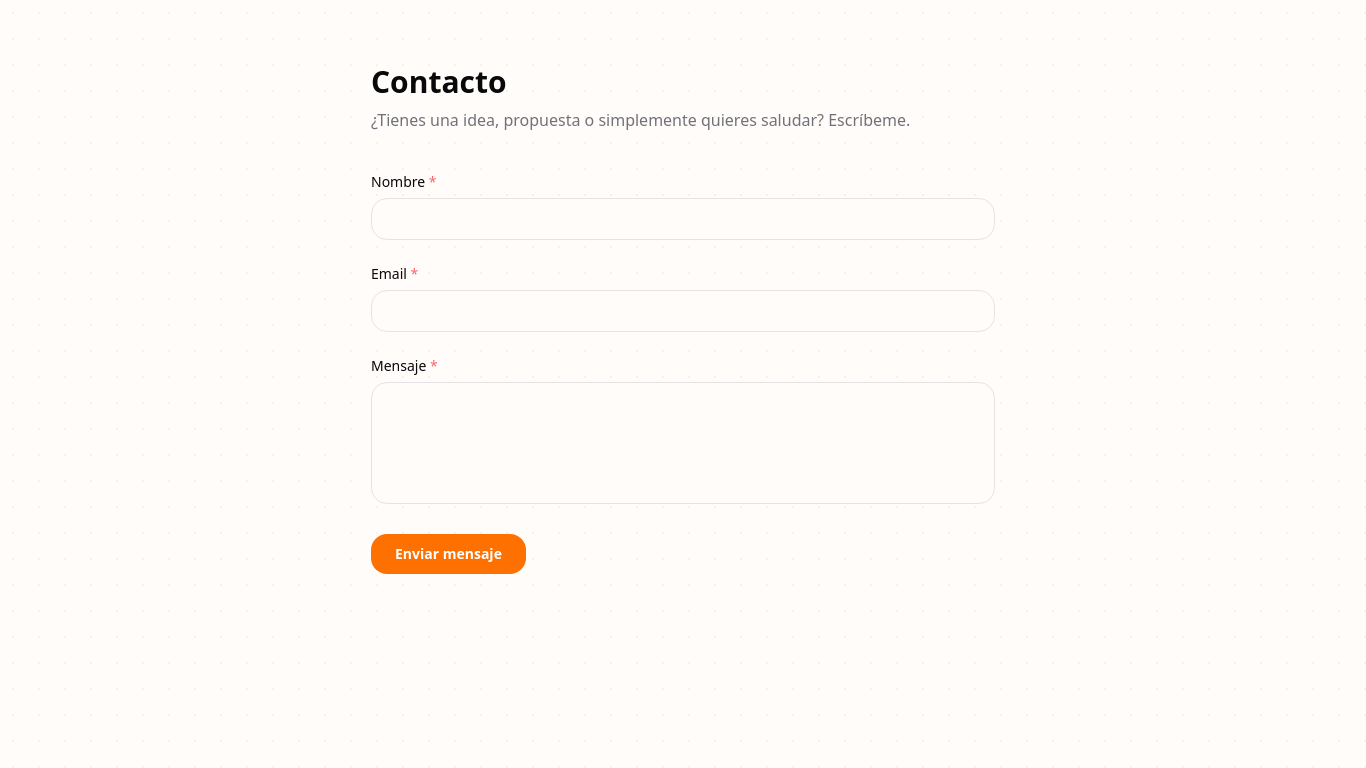
it: Contact › shows success state after valid submission
Type "Ana García" into the field labelled "Nombre *" at (683, 219), box [371,198,995,240]
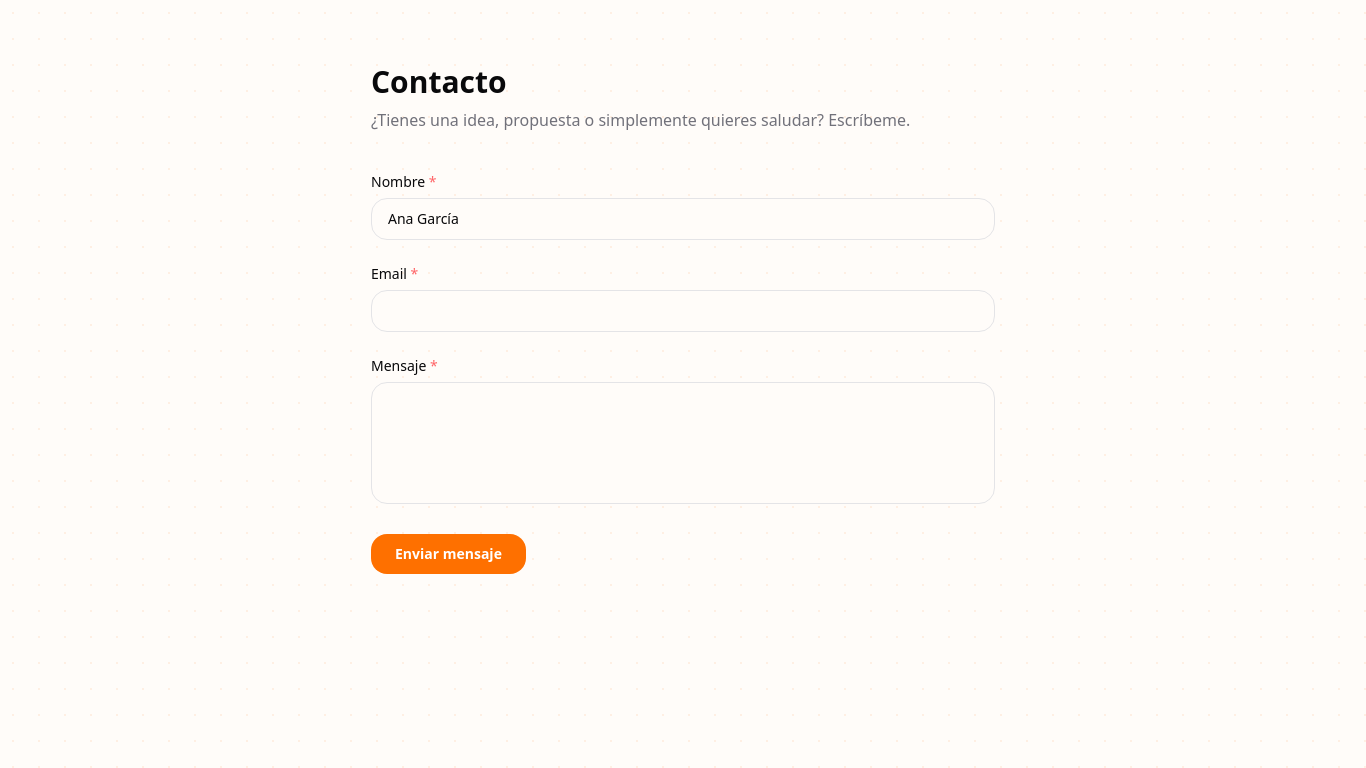
Type "ana@example.com" into the field labelled "Email *" at (683, 311), box [371,290,995,332]
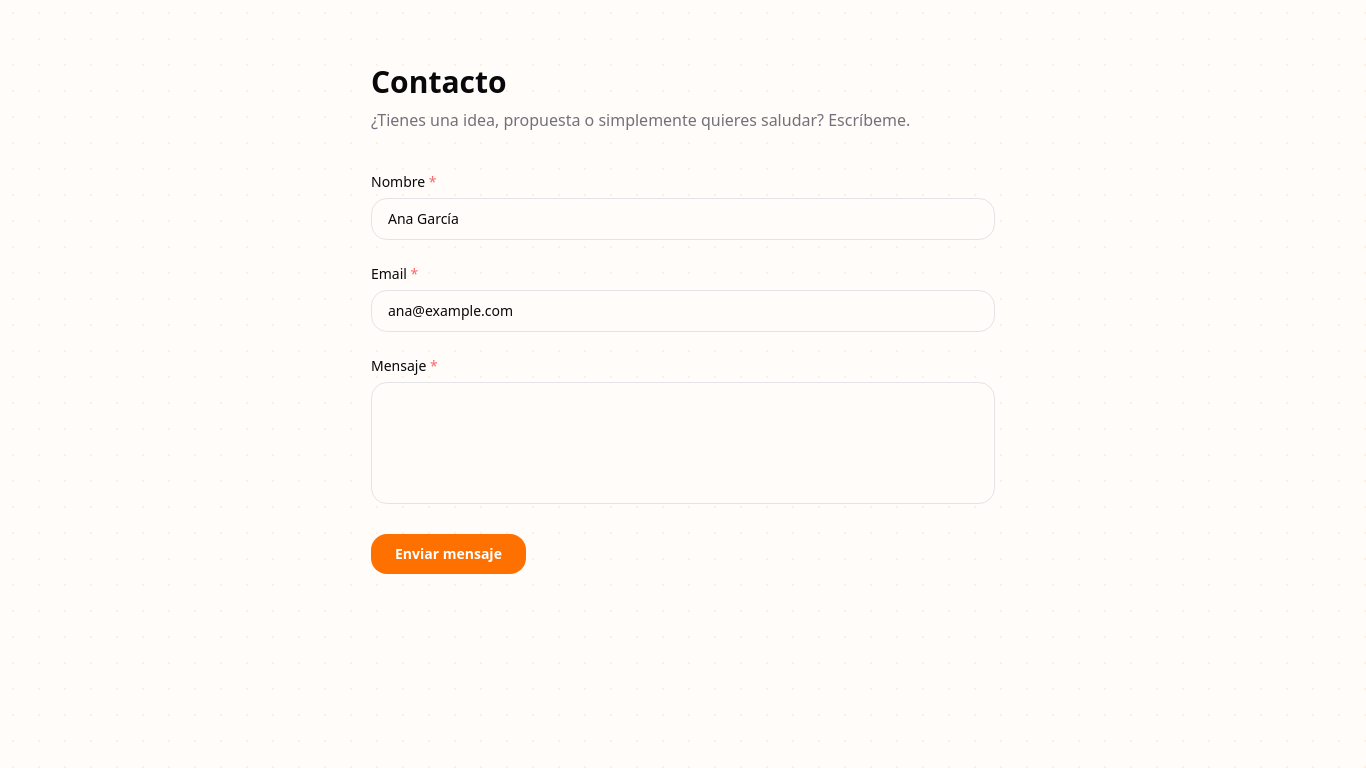
Type "Hola, me gustaría hablar contigo sobre un proyecto." into the text box labelled "Mensaje *" at (683, 443), box [371,382,995,504]
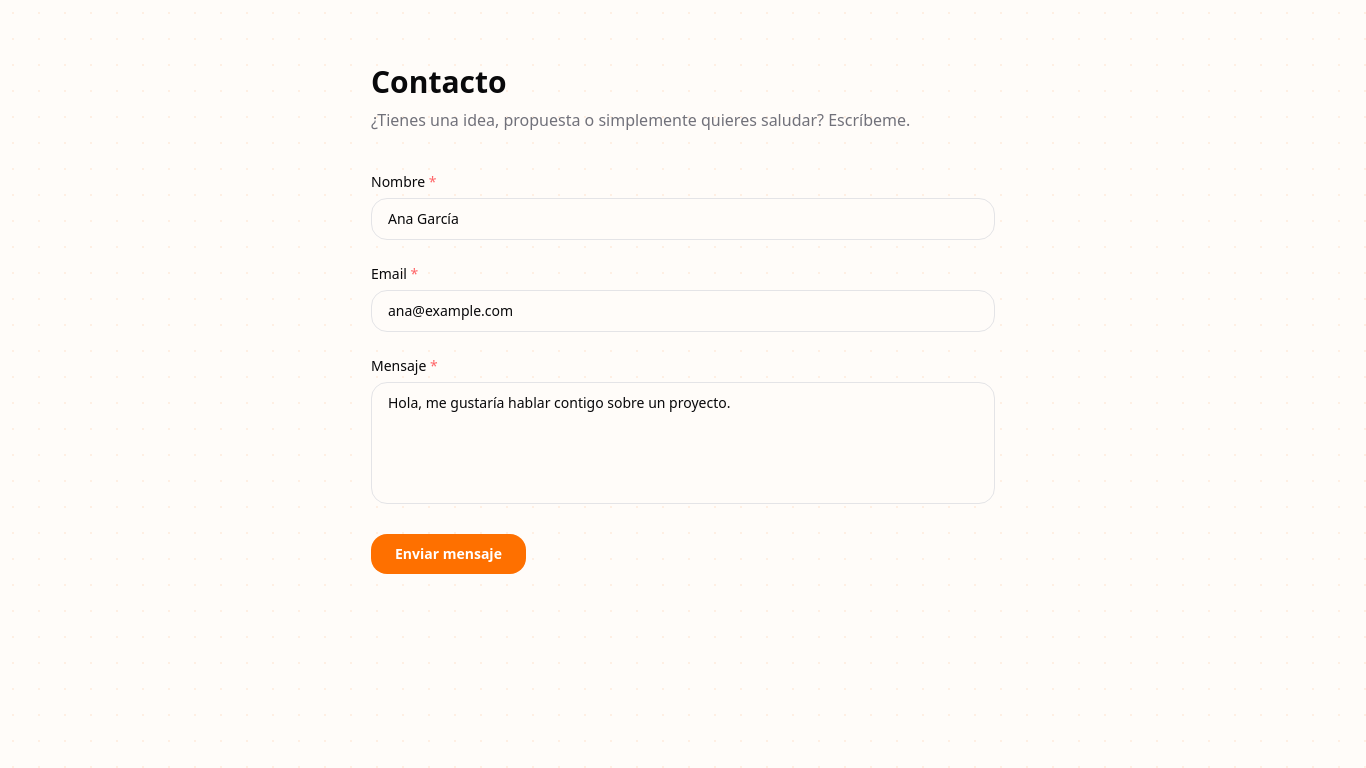
Click the button "Enviar mensaje" at (448, 554), box [371,534,526,574]
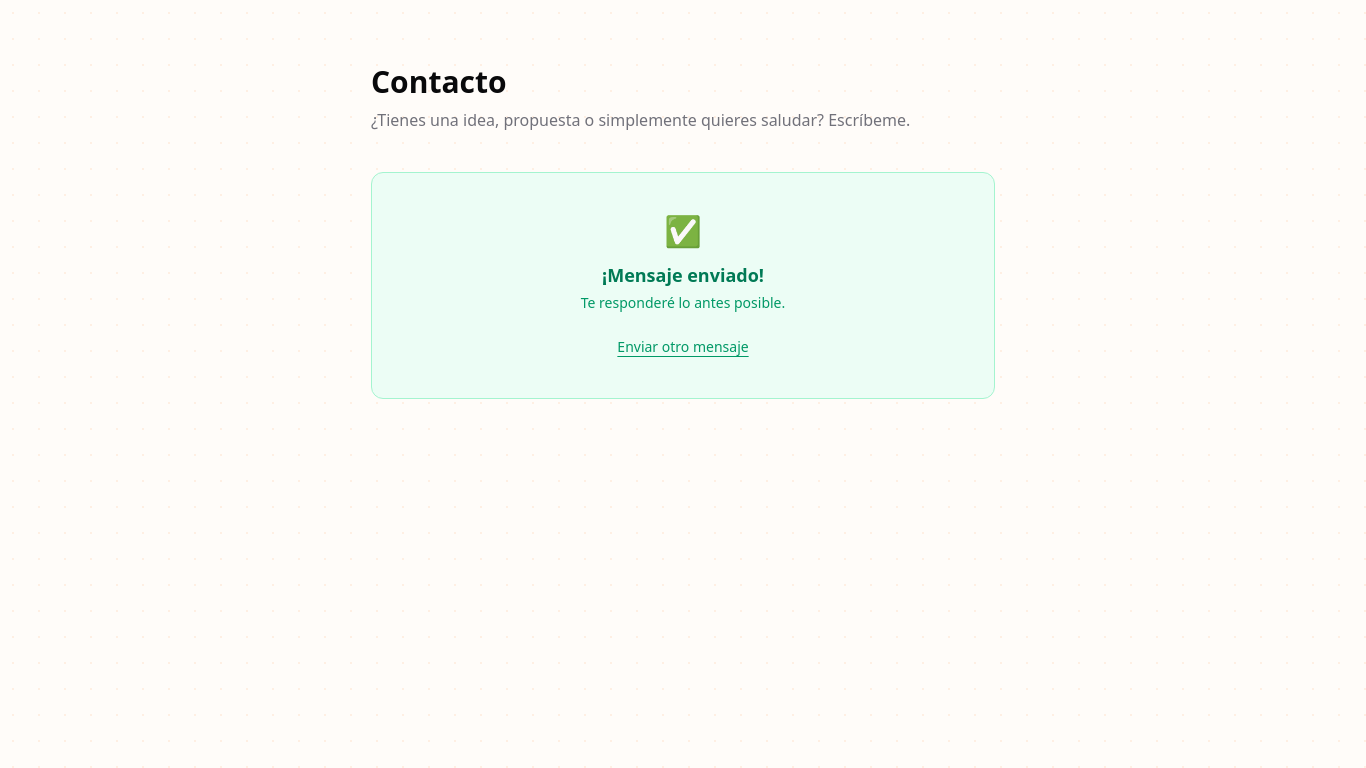
Result: the message "✅ ¡Mensaje enviado! Te responderé lo antes posible. Enviar otro mensaje" is shown at [371,172,995,399]
Result: the text "¡Mensaje enviado!" is shown at [602,263,764,287]
